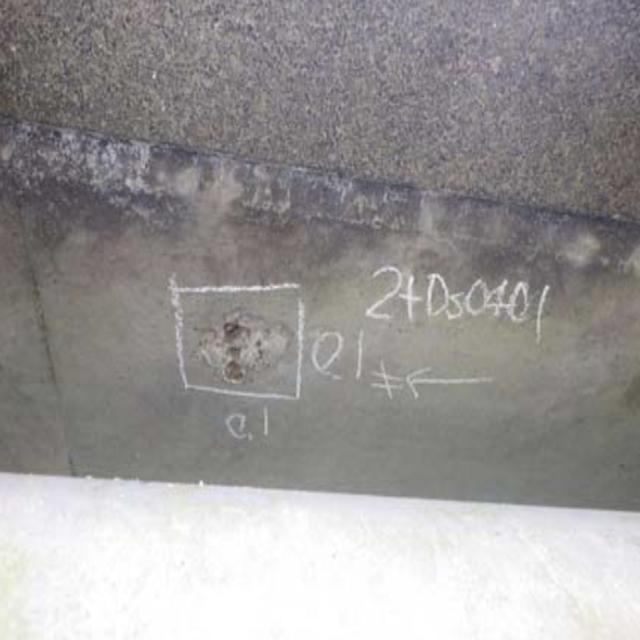spalling: (194, 300, 289, 404)
